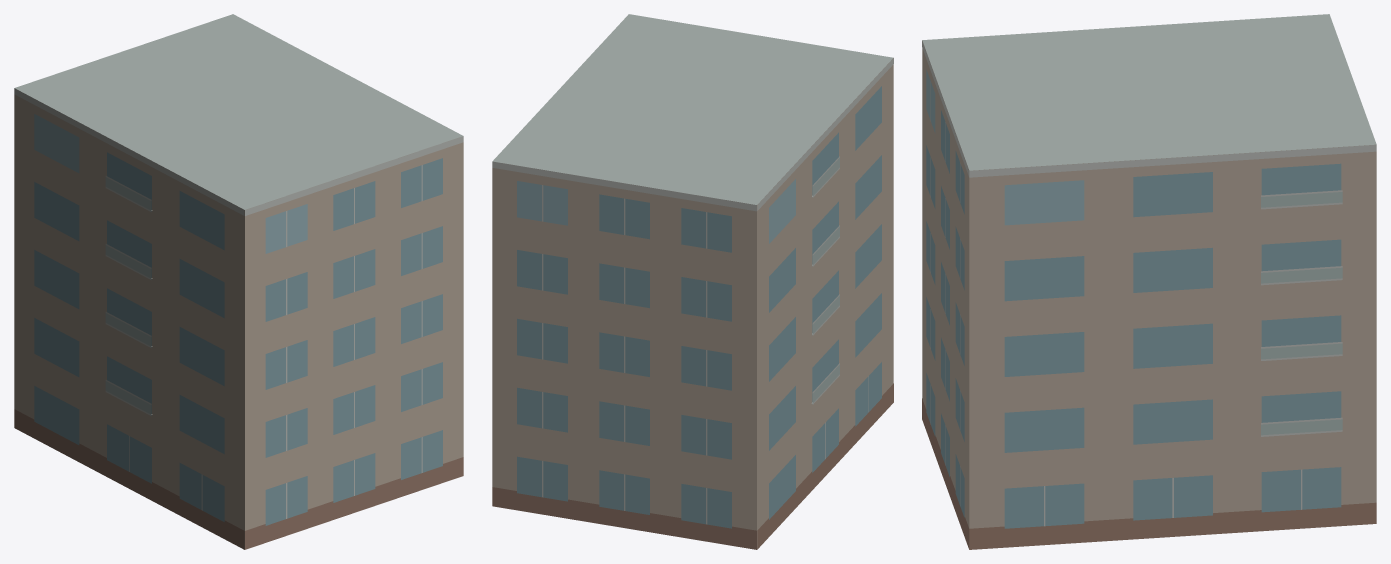
Rendered from survey-upis-32617624.glb.
3 views of the same model, side by side, from view 1: azimuth 30°, elevation 25°; view 2: azimuth 150°, elevation 25°; view 3: azimuth 270°, elevation 25° (orthographic). The views are drawn at different scales.
Visible parts, largest first — view 1: survey-upis-32617624.tmp; view 2: survey-upis-32617624.tmp; view 3: survey-upis-32617624.tmp.
Boxes of the visible parts, x1,y1,x2,y2 form: survey-upis-32617624.tmp: (14, 14, 463, 549); survey-upis-32617624.tmp: (492, 14, 893, 549); survey-upis-32617624.tmp: (922, 14, 1376, 549).
Size of the model in its own units: 11.76 by 13.26 by 14.42.
